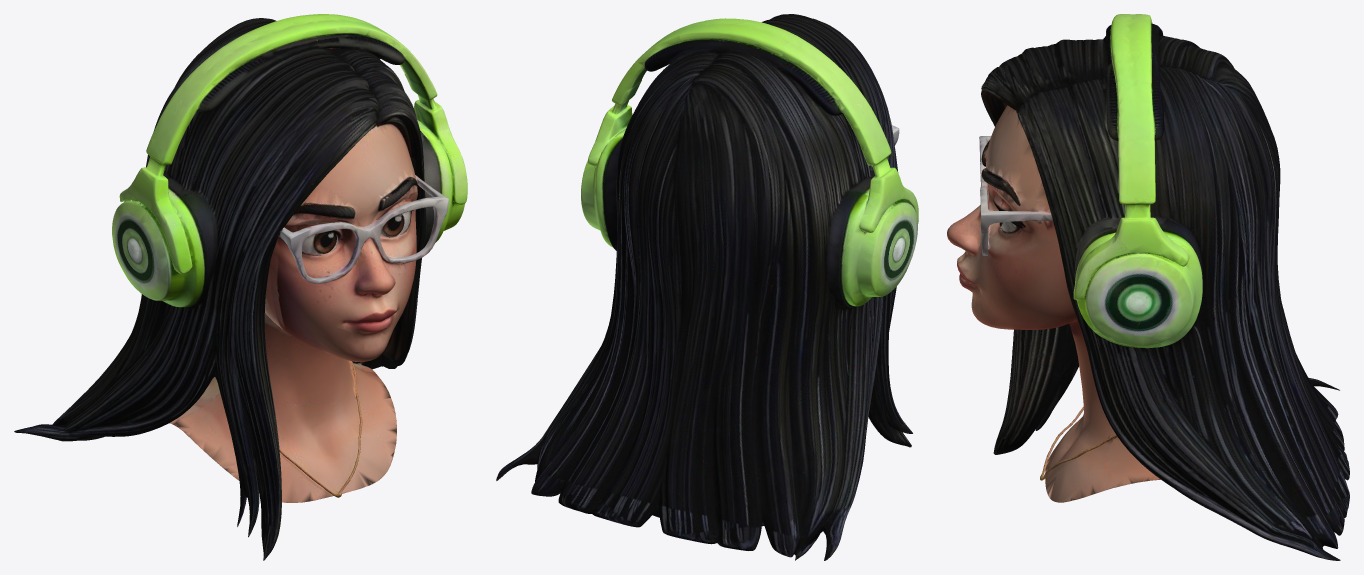
Rendered from avatar.glb.
The picture shows the model from 3 angles, left to right: view 1: azimuth 30°, elevation 25°; view 2: azimuth 150°, elevation 25°; view 3: azimuth 270°, elevation 25°; orthographic projection. The views are drawn at different scales.
Visible parts, largest first — view 1: mesh_node; view 2: mesh_node; view 3: mesh_node.
Part boxes in pixels (x1=…): mesh_node: x1=14, y1=14, x2=467, y2=560; mesh_node: x1=496, y1=14, x2=918, y2=560; mesh_node: x1=947, y1=14, x2=1349, y2=560.
Size of the model in its own units: 1.5 by 1.9 by 1.47.
Materials: 1 (1 with a texture image).
